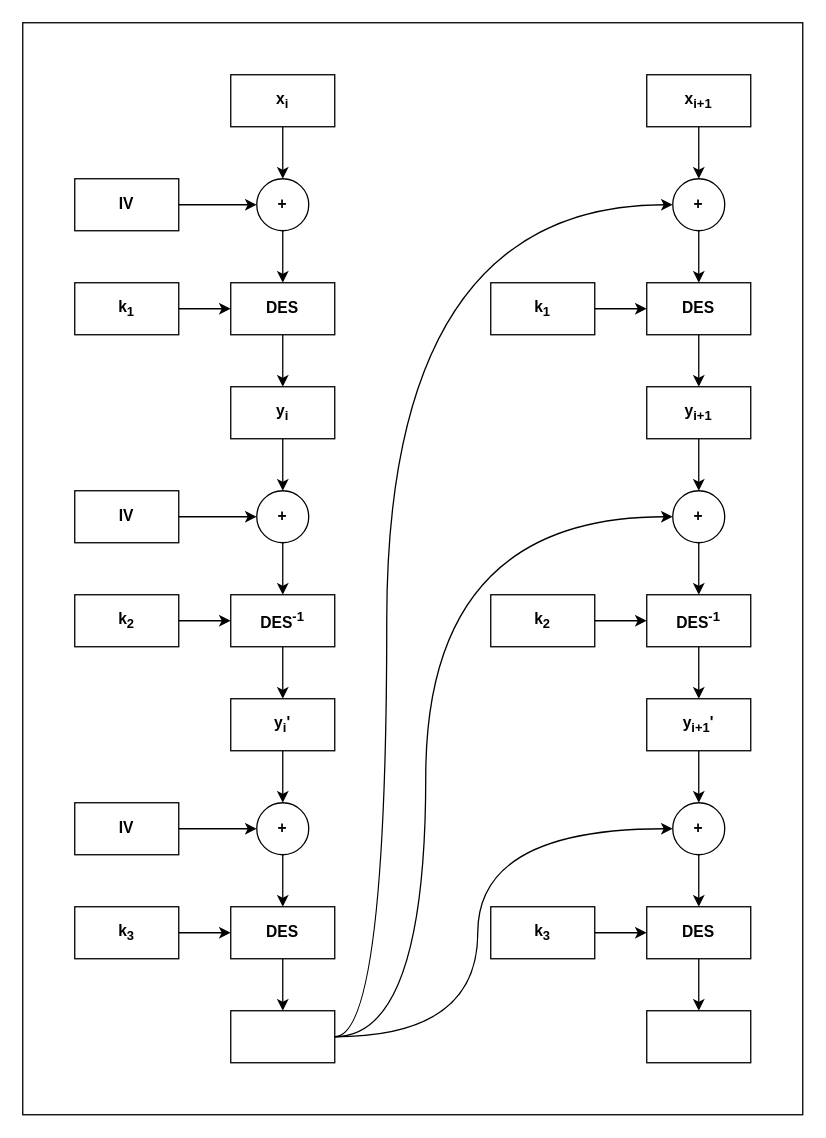
Some shapes in this 826 by 1138 pixel diagram are drawn without their labels. Here are the shapes that lost their labels. From the top down, the centre of each, then its label:
At (282,1036): "y i ''".
At (698,1036): "y i+1 ''".
